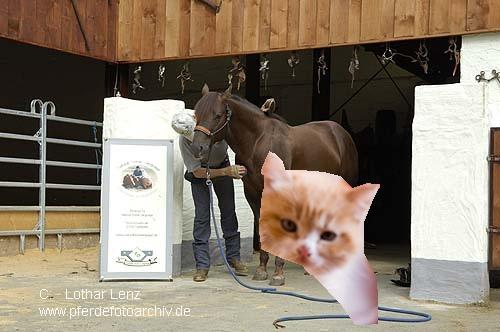tampered: (260, 152, 380, 325)
